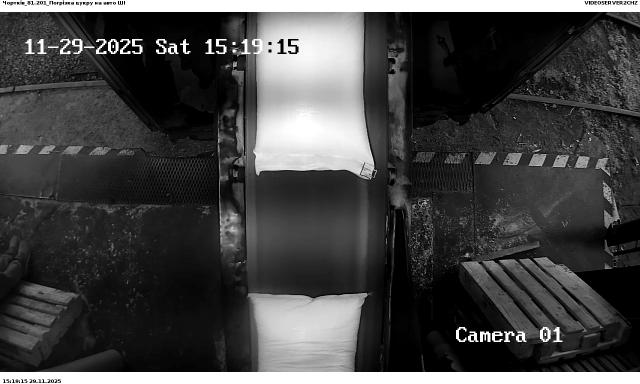bag: (255, 12, 375, 179), (249, 294, 371, 372)
